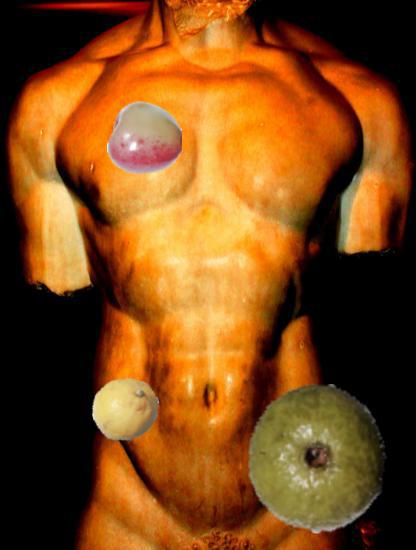Cherry: (107, 100, 182, 175)
Guava: (242, 383, 392, 533)
Lemon: (92, 376, 160, 444)
